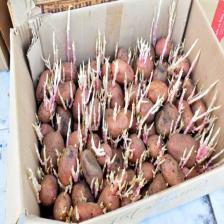Sprouted potato: (168, 121, 210, 167), (56, 120, 83, 190), (47, 28, 82, 81), (153, 76, 183, 136), (77, 136, 108, 192), (35, 116, 64, 171), (175, 86, 205, 136), (29, 158, 58, 205), (122, 119, 150, 166), (72, 58, 92, 120), (156, 152, 189, 188), (64, 194, 108, 220), (101, 101, 133, 135), (47, 68, 77, 104), (74, 42, 104, 76), (30, 61, 54, 103), (50, 179, 73, 221), (147, 41, 172, 79), (98, 171, 122, 210), (146, 71, 176, 102), (136, 79, 156, 123), (110, 50, 136, 83), (86, 84, 103, 131), (191, 88, 210, 129), (134, 150, 158, 182), (151, 24, 174, 56), (133, 42, 154, 76), (168, 47, 194, 74), (97, 127, 115, 166), (184, 53, 198, 97), (146, 128, 166, 157), (114, 37, 131, 67)
